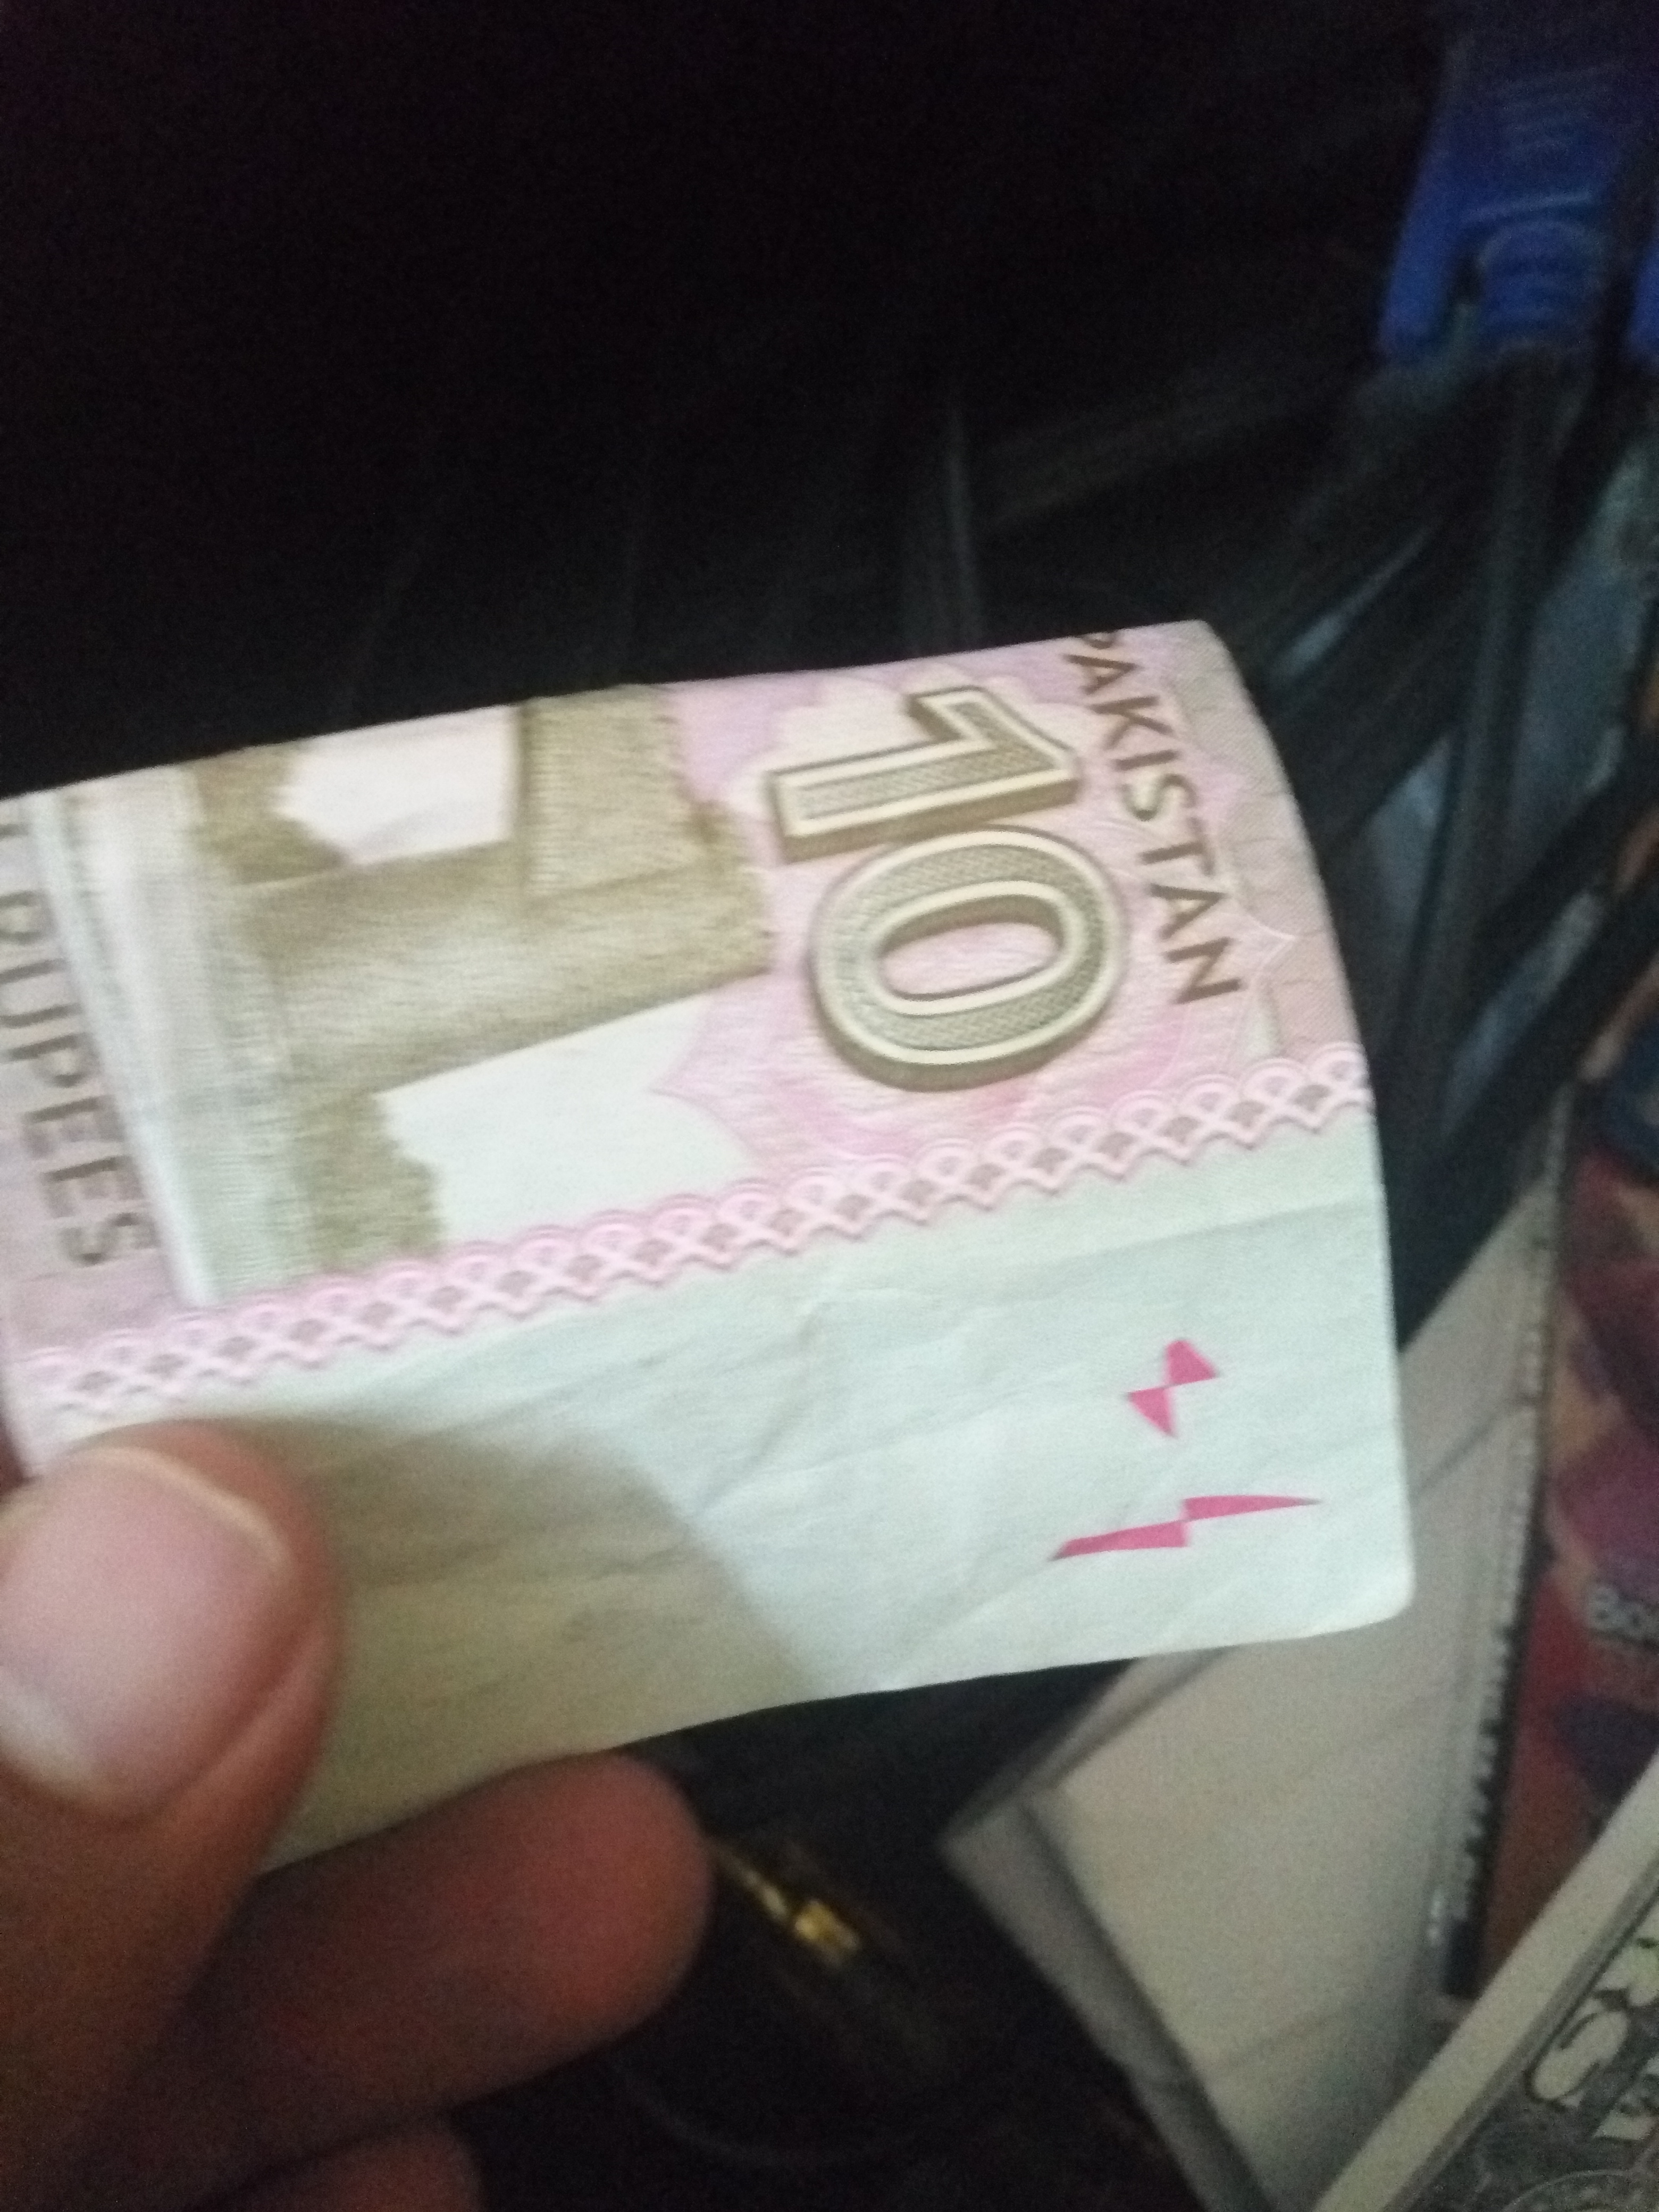10 rupee: (30, 589, 1441, 1874)
